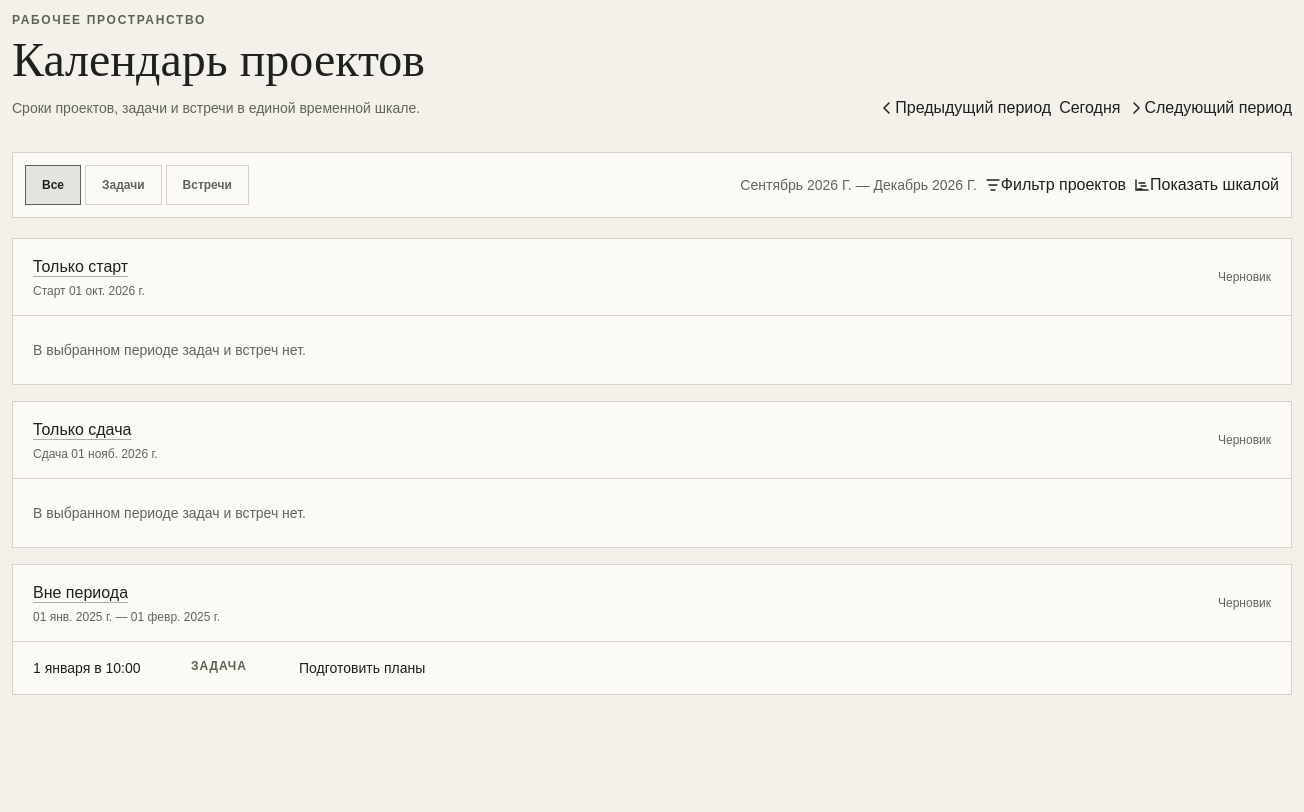
Scenario: GlobalProjectsCalendarPage › uses the agenda first on a narrow screen and handles partial or out-of-range project dates
What coordinates should you click on to do the following:
click the button named "Показать временную шкалу"
I would click on:
 (1142, 185)
Its box is [1134, 173, 1150, 197].
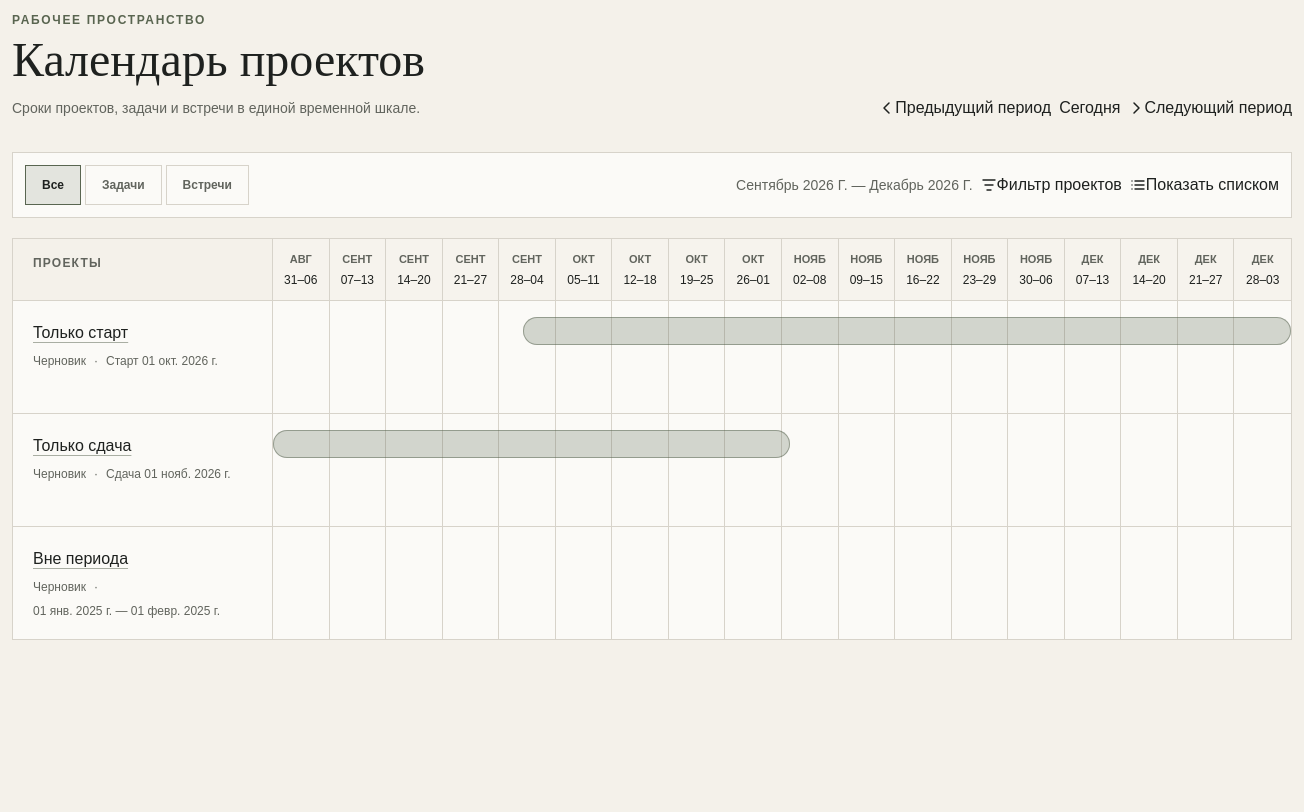
Check: the link named "Проект Только старт:" is shown, box [523, 316, 1291, 344]
Check: the link named "Проект Только сдача:" is shown, box [273, 430, 790, 458]
